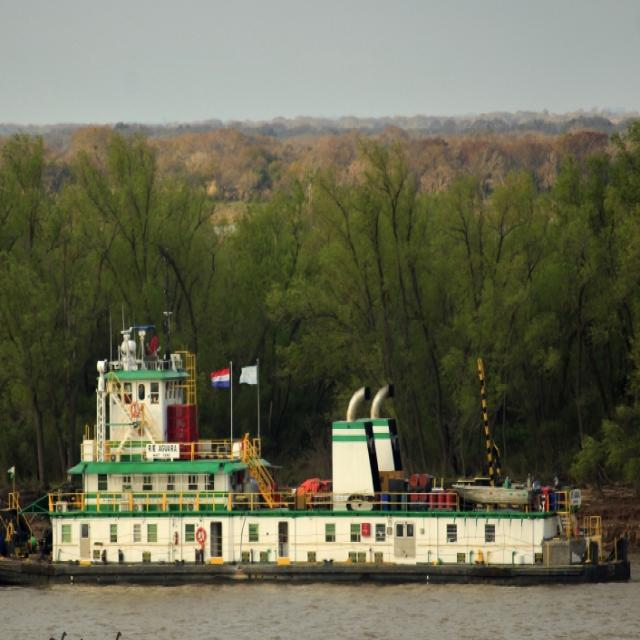tugboat: (1, 319, 637, 597)
